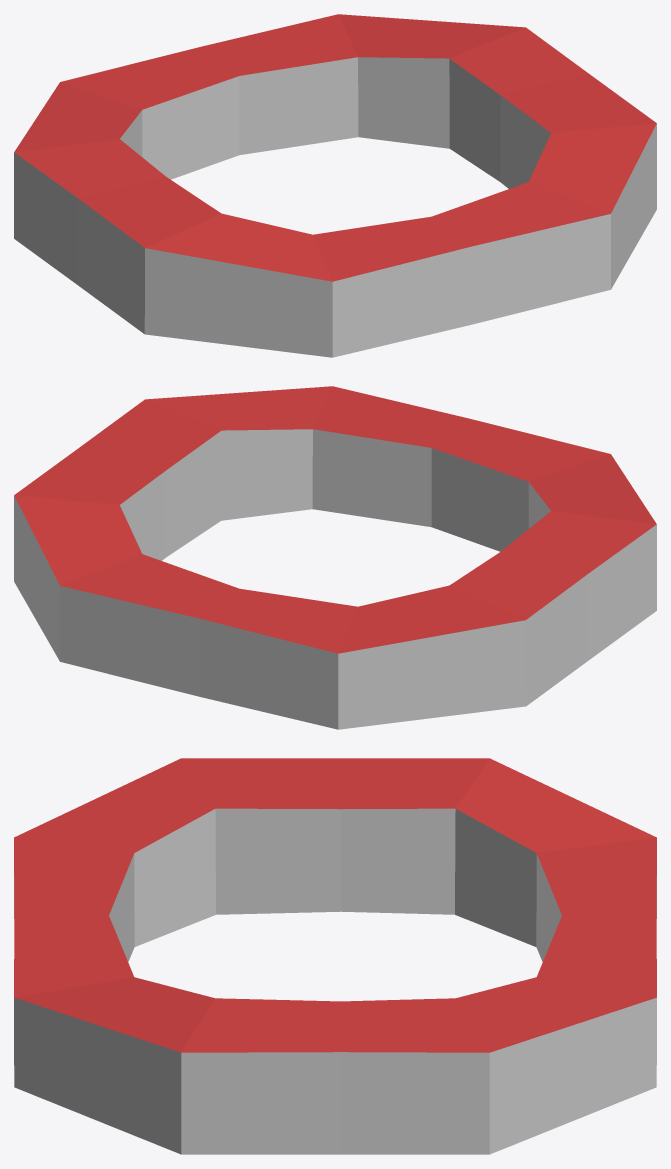
The model's file is donut-level.fbx.
3 renders of one model, top to bottom at view 1: azimuth 30°, elevation 25°; view 2: azimuth 150°, elevation 25°; view 3: azimuth 270°, elevation 25°, orthographic. The views are drawn at different scales.
Visible parts, largest first — view 1: Cube.001; view 2: Cube.001; view 3: Cube.001.
Part boxes in pixels (box(x1,y1,x2,y2)): Cube.001: box(14, 14, 656, 357); Cube.001: box(14, 386, 656, 729); Cube.001: box(14, 758, 656, 1154).
Bounding box in the file's own units: 38002 × 6389 × 35047.
